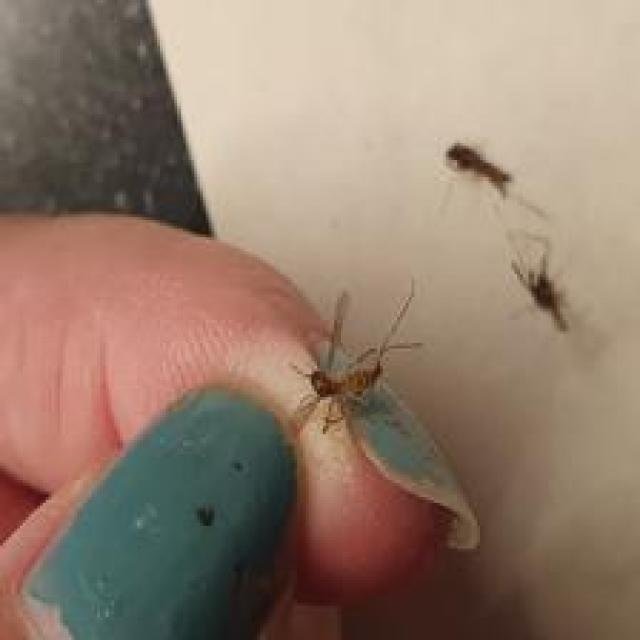Culex: (287, 278, 482, 553)
